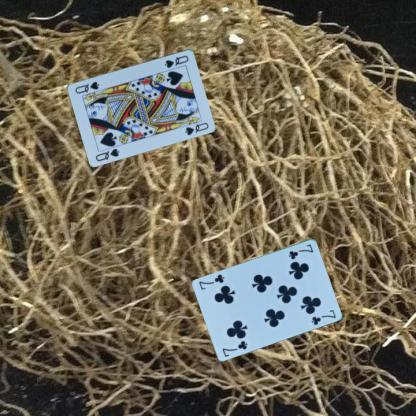7c: (220, 338, 249, 358), (286, 242, 314, 260)
Qs: (162, 52, 190, 69), (93, 146, 121, 162)
